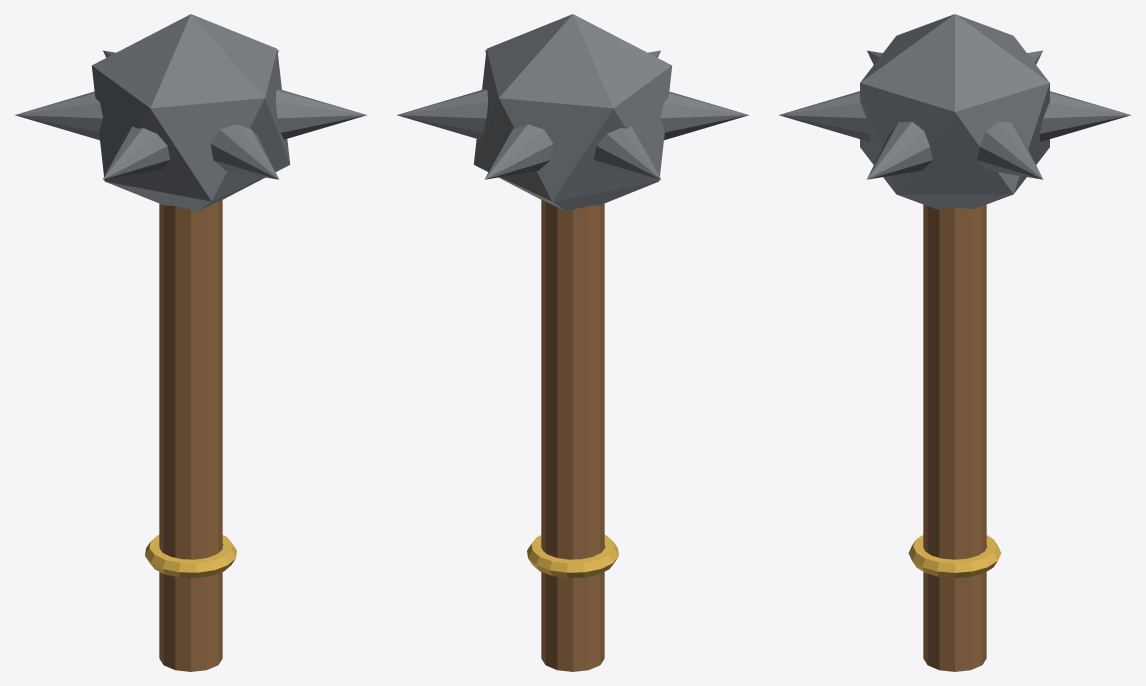
Rendered from weapon.glb.
3 renders of one model, left to right at view 1: azimuth 30°, elevation 25°; view 2: azimuth 150°, elevation 25°; view 3: azimuth 270°, elevation 25°, orthographic.
Parts seen in each view (by area): view 1: mace_handle, mace_head, spike_2, spike_3, spike_4, spike_5, grip_band; view 2: mace_handle, mace_head, spike_1, spike_0, spike_5, spike_4, grip_band; view 3: mace_handle, mace_head, spike_1, spike_2, spike_0, spike_3, grip_band.
Boxes of the visible parts, x1,y1,x2,y2 form: mace_handle: (159, 200, 222, 671); mace_head: (91, 14, 290, 211); spike_2: (275, 89, 366, 139); spike_3: (210, 124, 278, 179); spike_4: (103, 126, 169, 179); spike_5: (15, 91, 103, 140); grip_band: (145, 535, 236, 577); mace_handle: (541, 200, 604, 671); mace_head: (473, 14, 672, 211); spike_1: (397, 89, 488, 139); spike_0: (485, 124, 553, 179); spike_5: (594, 126, 660, 179); spike_4: (660, 91, 748, 140); grip_band: (527, 535, 618, 577); mace_handle: (923, 204, 986, 671); mace_head: (860, 14, 1049, 209); spike_1: (977, 121, 1042, 179); spike_2: (867, 121, 932, 179); spike_0: (1039, 91, 1130, 141); spike_3: (779, 91, 870, 141); grip_band: (908, 535, 1001, 578).
Bounding box in the file's own units: 0.3291 × 0.765 × 0.38.
